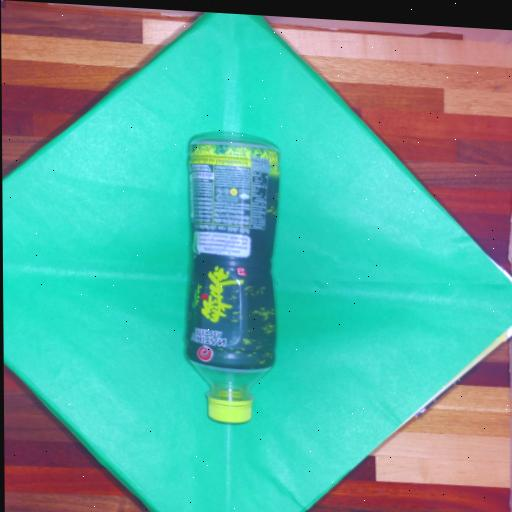bottle: (183, 130, 279, 429)
